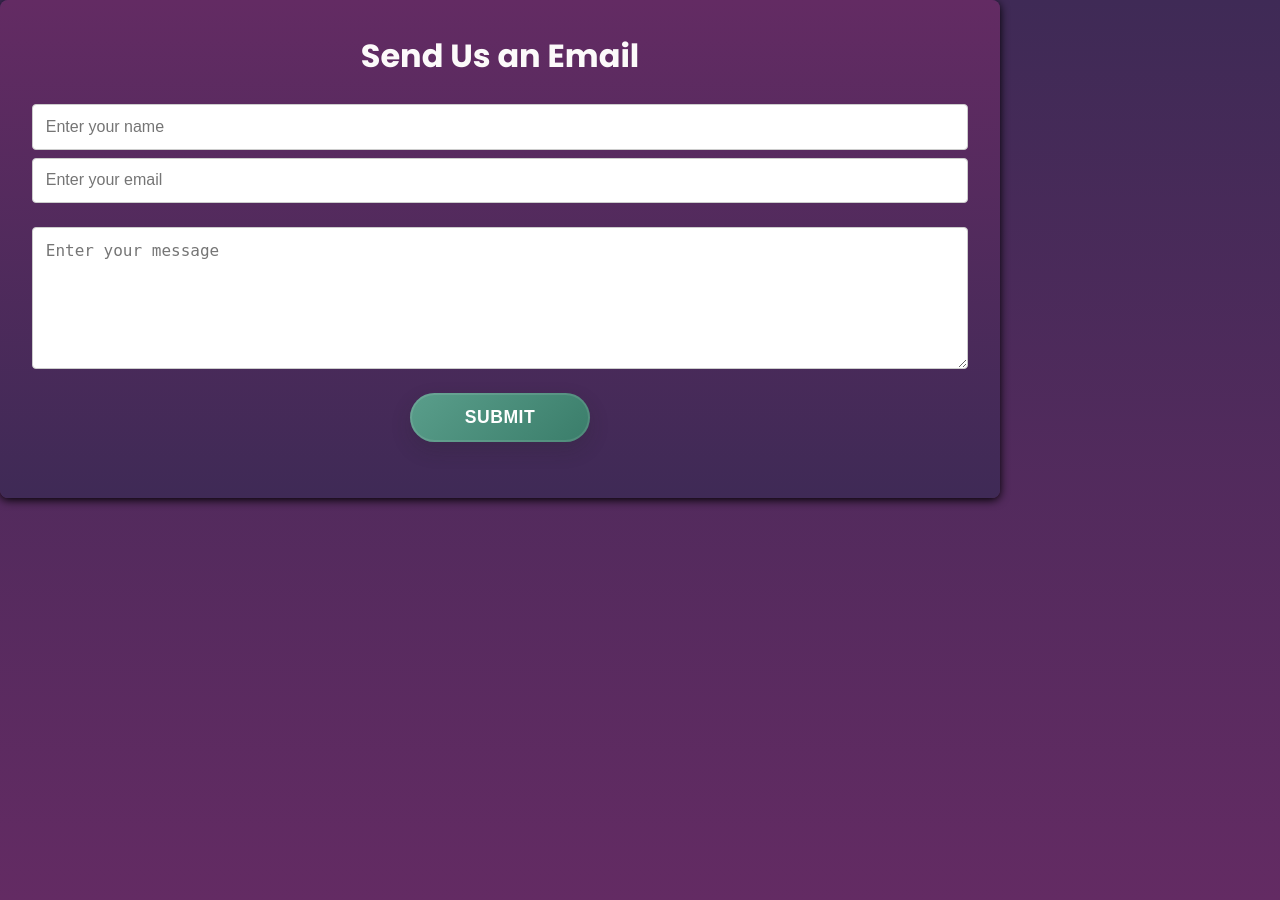
Scenario: Contact Form › shows loading message when submitting
# Fill out form fields before submitting
Step 1. Type "John Doe" into the field with placeholder "Enter your name" → (500, 127), box top-left (32, 104), bottom-right (968, 150)
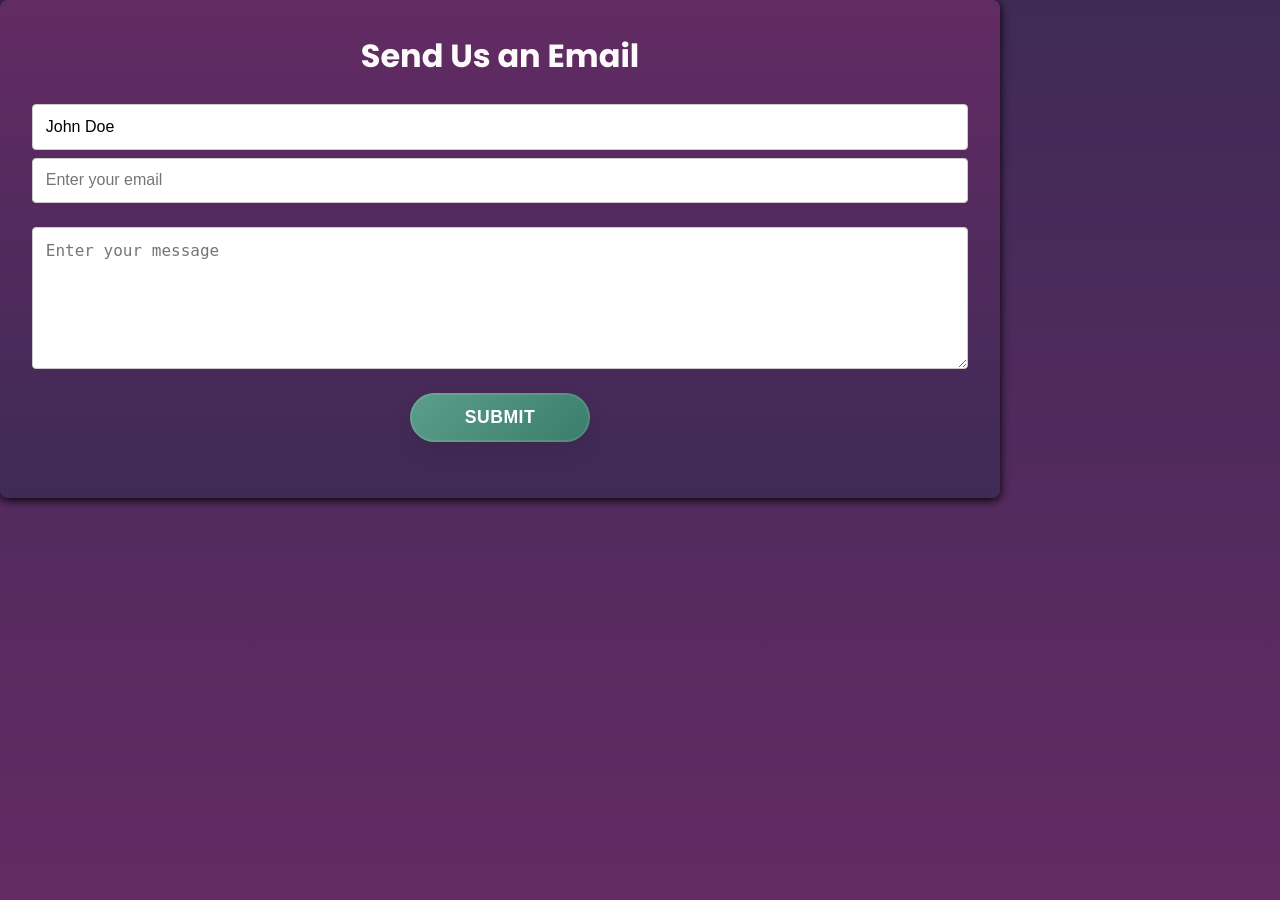
Step 2. Type "john@example.com" into the field with placeholder "Enter your email" → (500, 180), box top-left (32, 158), bottom-right (968, 203)
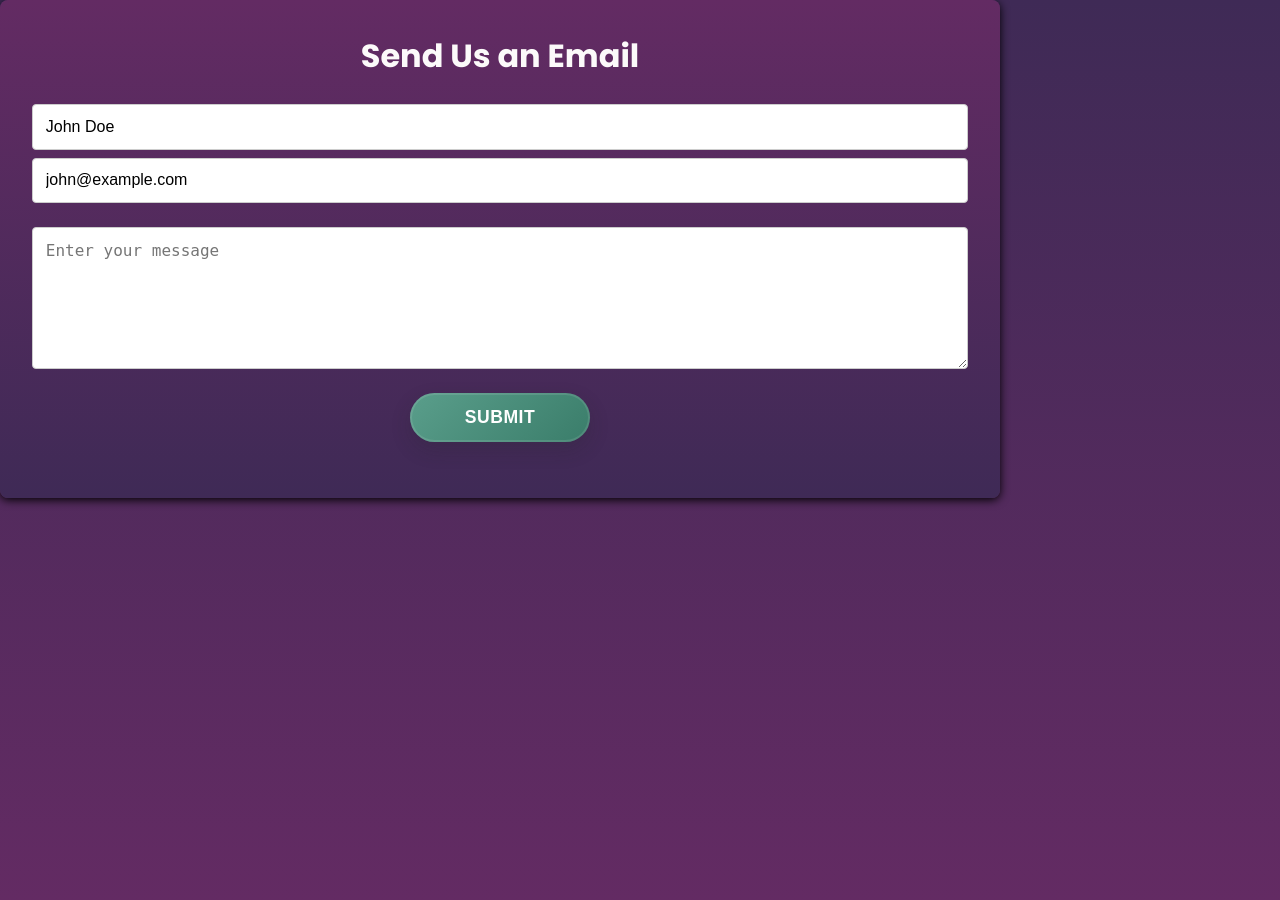
Step 3. Type "Hello there!" into the text box with placeholder "Enter your message" → (500, 298), box top-left (32, 227), bottom-right (968, 369)
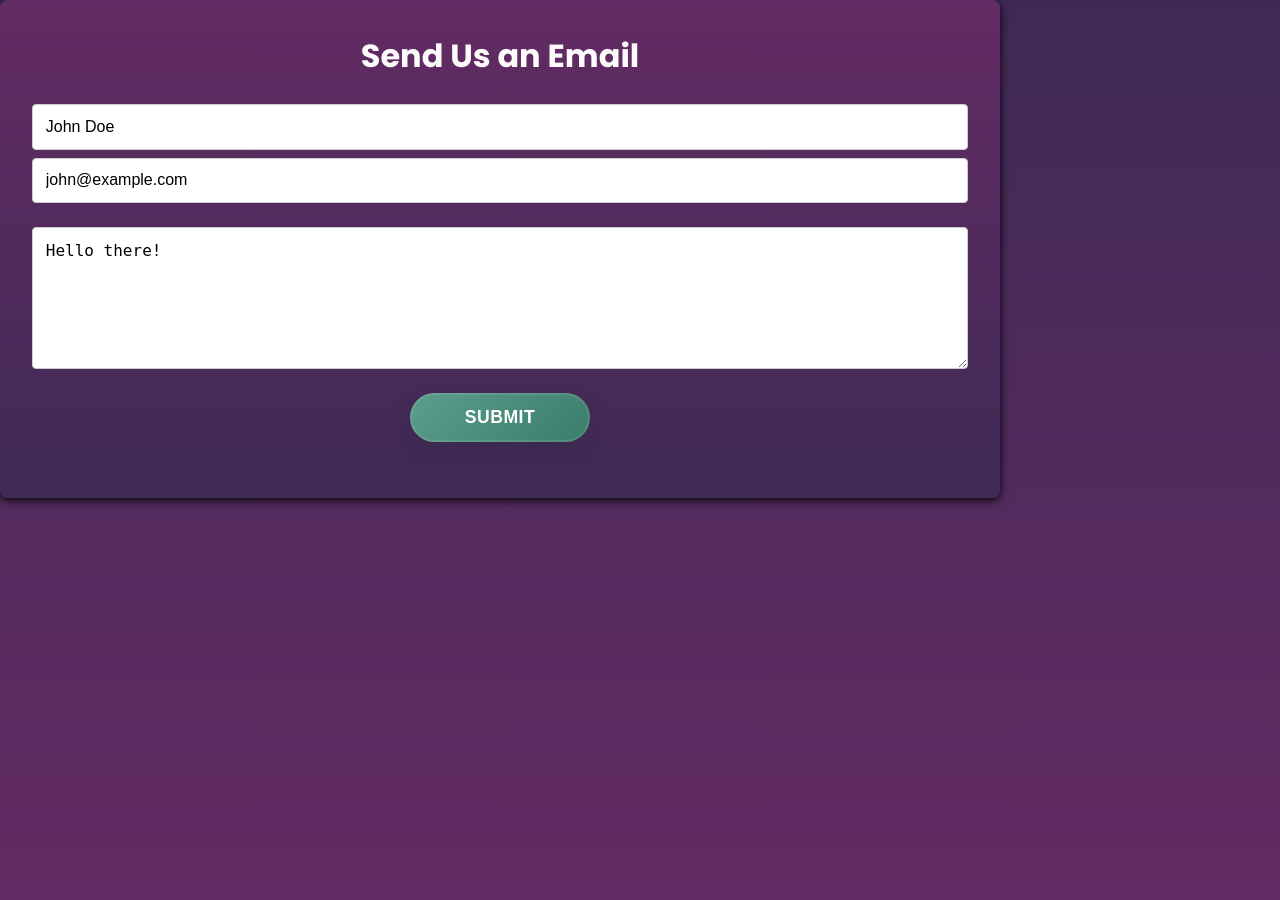
# Click submit button
Step 4. Click the button "Submit" → click(500, 417), box top-left (410, 393), bottom-right (590, 442)
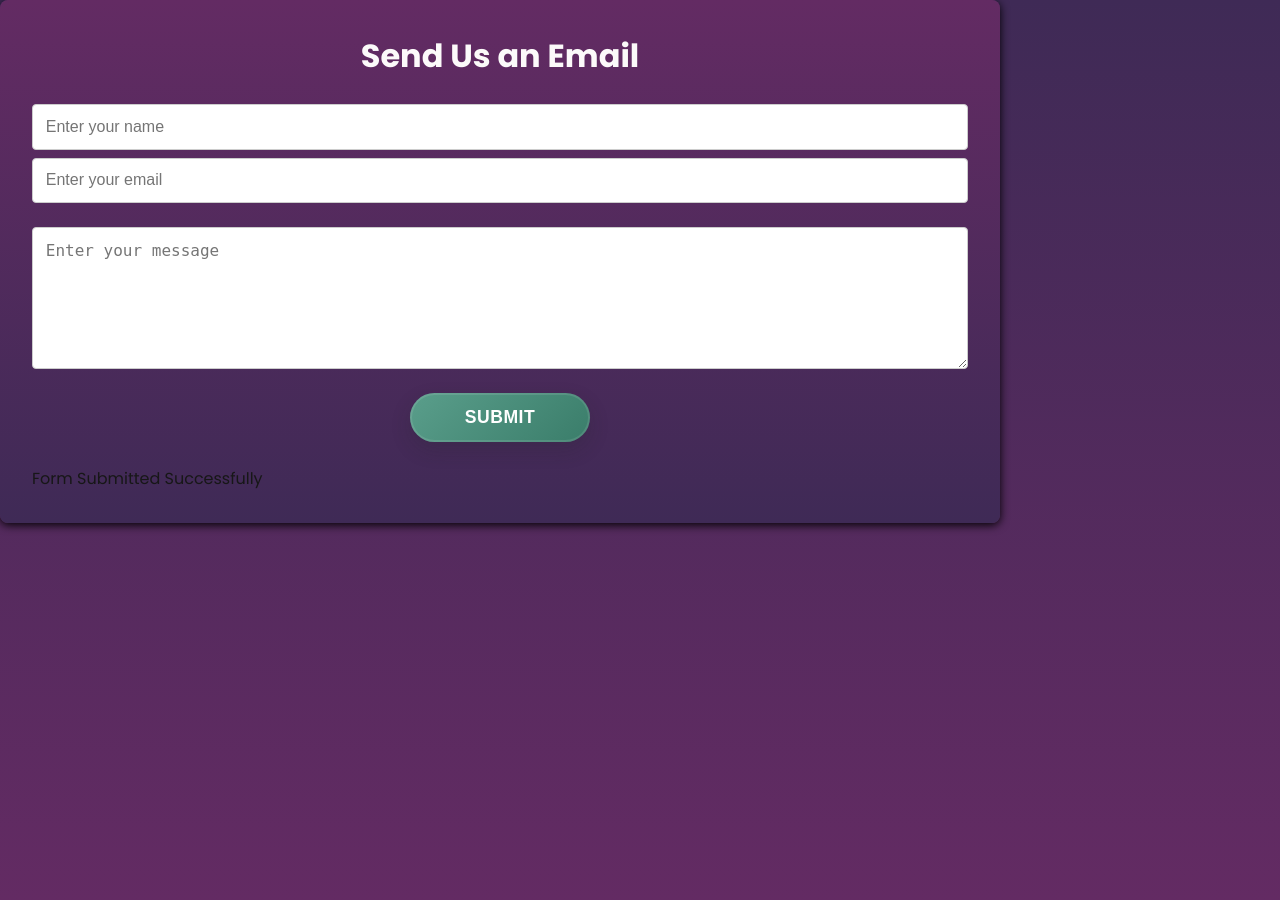
Now the text "Sending...." is shown, box top-left (32, 467), bottom-right (263, 490)
